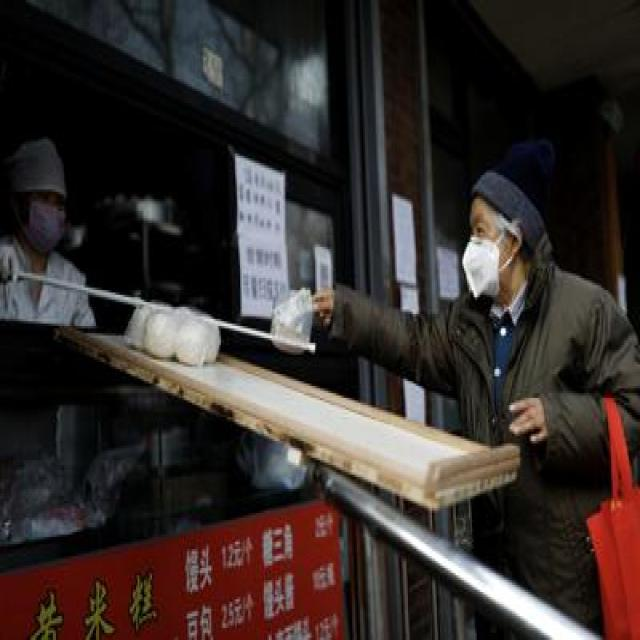with_mask: (460, 210, 507, 303), (24, 188, 67, 250)
